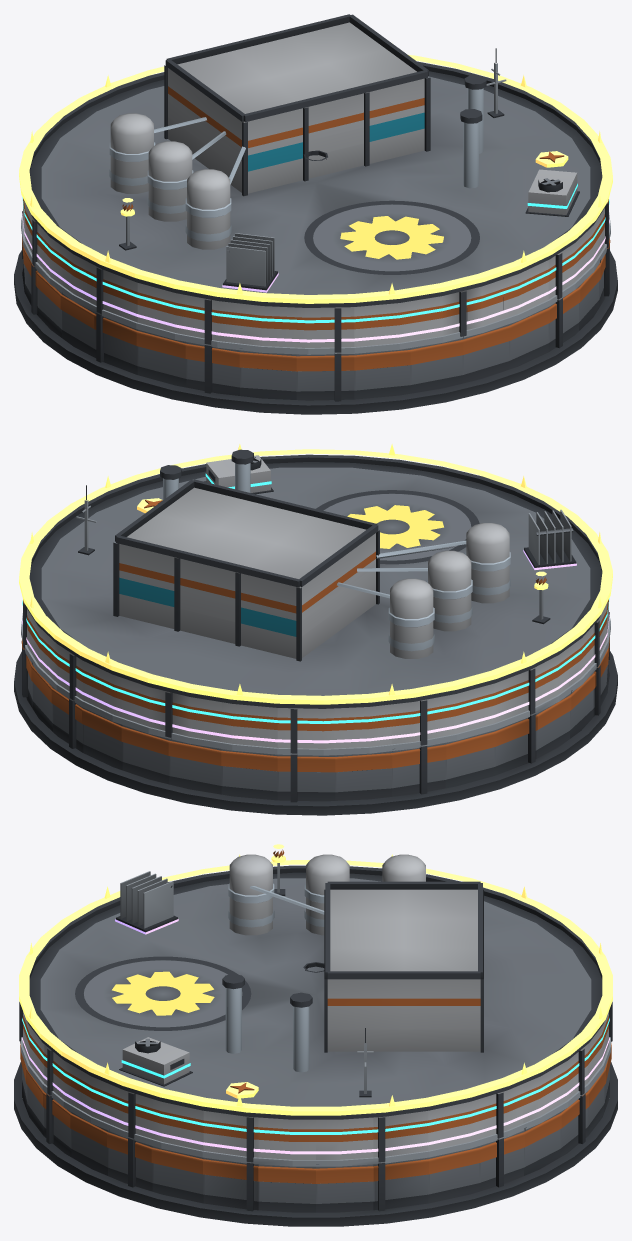
The model's file is superconductor_lab_m_far.glb.
3 views of the same model, one above another, from view 1: azimuth 30°, elevation 25°; view 2: azimuth 150°, elevation 25°; view 3: azimuth 270°, elevation 25° (orthographic).
Visible parts, largest first — view 1: Roof, Base, L5, L2, L4, L3; view 2: Roof, Base, L5, L2, L4, L3; view 3: Roof, Base, L5, L4, L2, L3.
Boxes of the visible parts, <box> form: Roof: <box>23,14,608,352</box>; Base: <box>14,211,617,414</box>; L5: <box>19,54,612,303</box>; L2: <box>21,48,610,354</box>; L4: <box>22,212,609,342</box>; L3: <box>22,150,609,323</box>; Roof: <box>23,449,608,753</box>; Base: <box>14,612,617,815</box>; L5: <box>19,444,612,704</box>; L2: <box>21,485,610,755</box>; L4: <box>22,509,609,743</box>; L3: <box>22,455,609,723</box>; Roof: <box>19,854,612,1162</box>; Base: <box>14,1041,617,1226</box>; L5: <box>19,844,612,1115</box>; L4: <box>22,871,609,1154</box>; L2: <box>21,1028,610,1166</box>; L3: <box>22,962,609,1134</box>.
Size of the model in its own units: 14.75 by 4.96 by 14.75.
